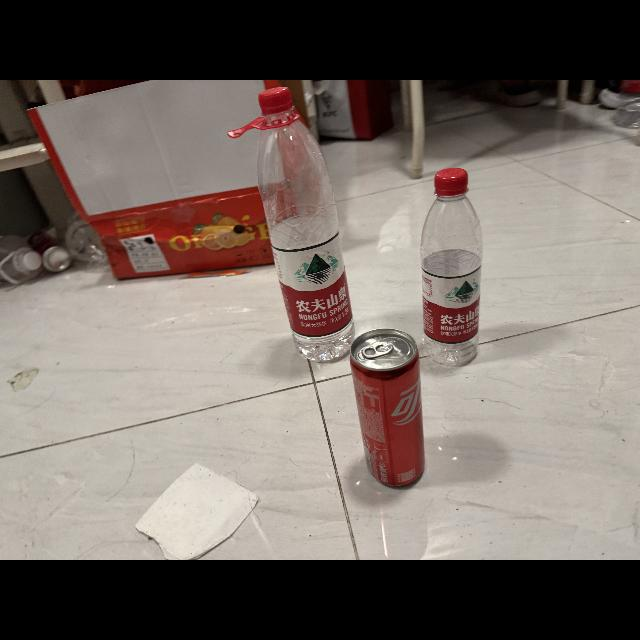Cola: (346, 325, 432, 495)
